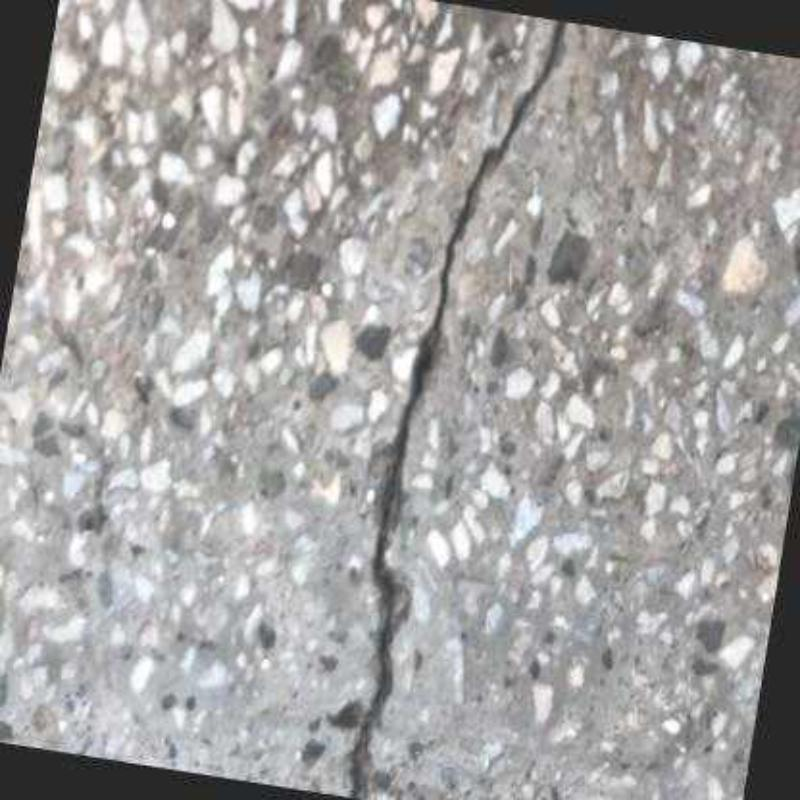pothole: (350, 22, 567, 800)
